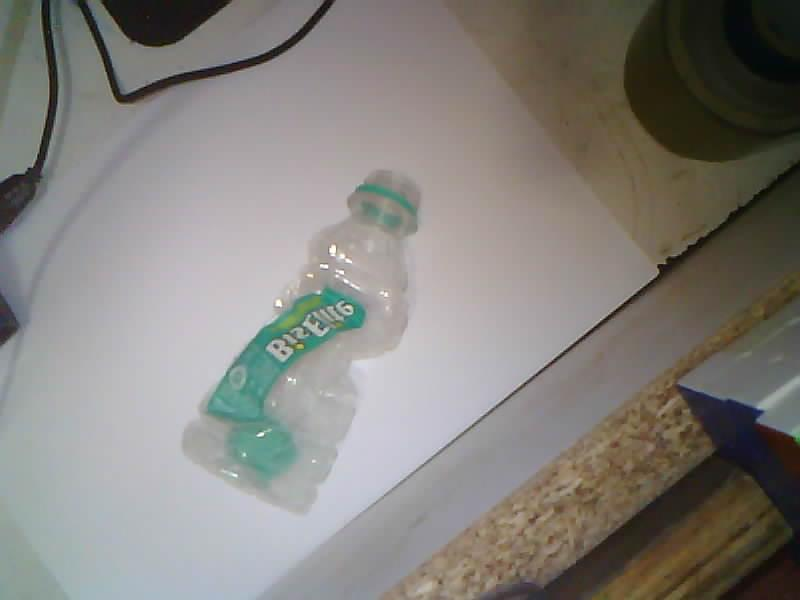non-biodegradable: (184, 171, 419, 512)
